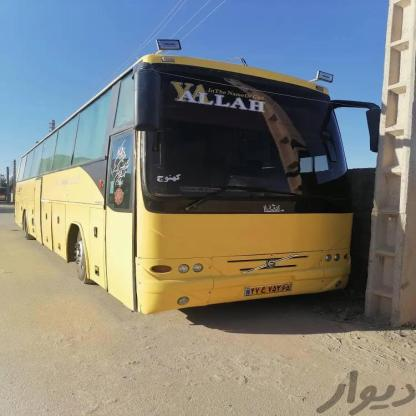Bus: (8, 54, 380, 329)
